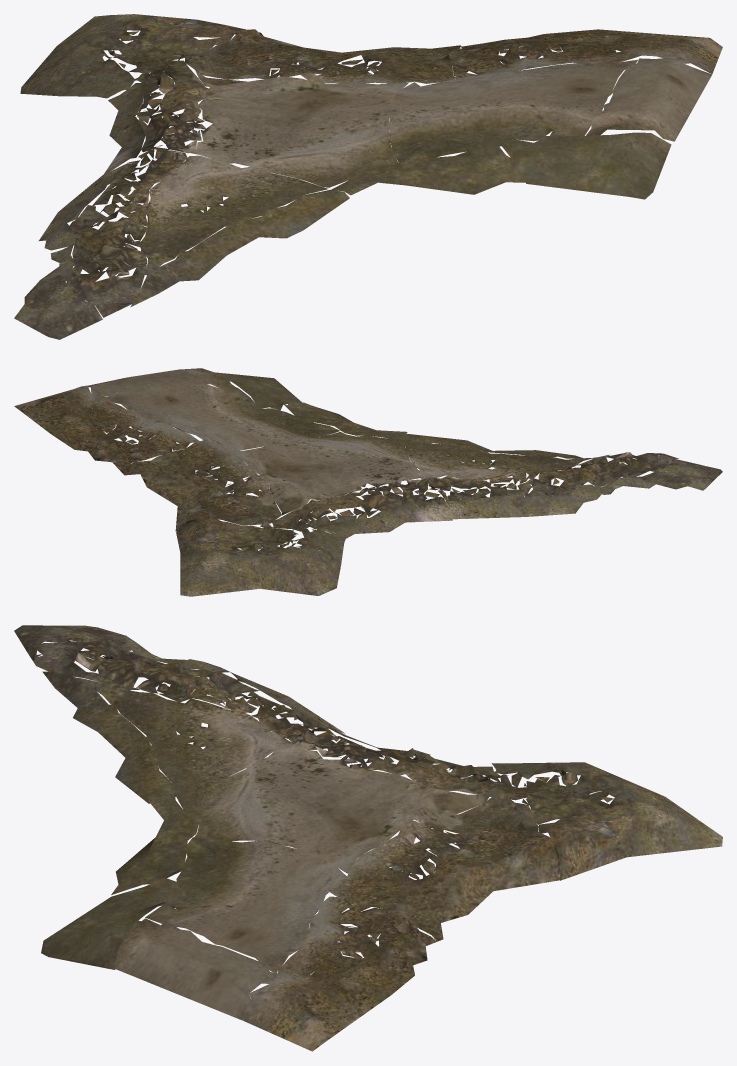
The model's file is ph_coast_rocks_01.glb.
The picture shows the model from 3 angles, top to bottom: view 1: azimuth 30°, elevation 25°; view 2: azimuth 150°, elevation 25°; view 3: azimuth 270°, elevation 25°; orthographic projection. The views are drawn at different scales.
Visible parts, largest first — view 1: coast_rocks_01; view 2: coast_rocks_01; view 3: coast_rocks_01.
Part boxes in pixels (x1,y1,x2,y2): coast_rocks_01: (14, 14, 722, 339); coast_rocks_01: (14, 368, 722, 596); coast_rocks_01: (14, 625, 722, 1051).
Size of the model in its own units: 59.48 by 3.36 by 42.58.
Materials: 1 (1 with a texture image).
